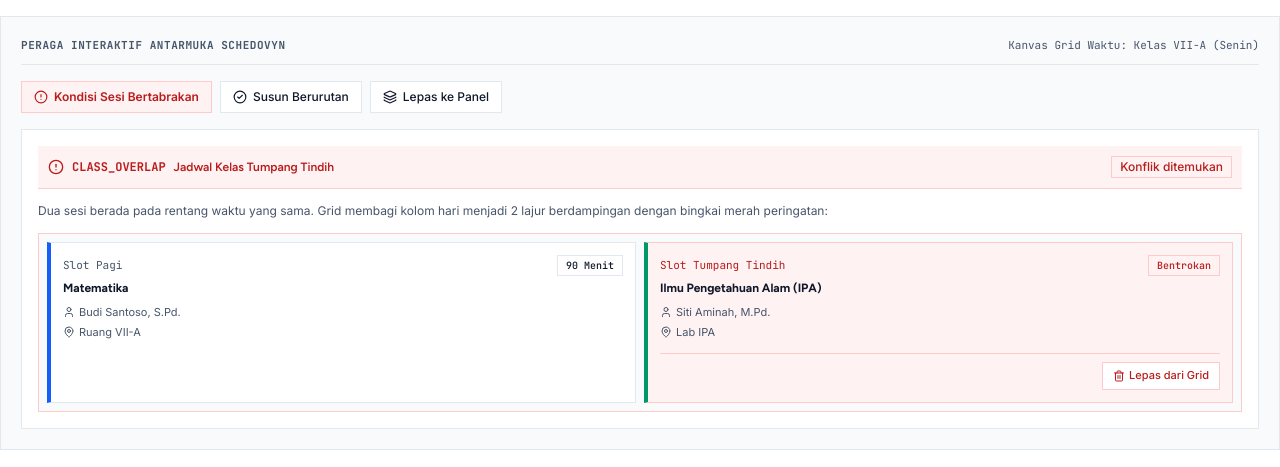
it: TASK-03: Implementasi 5 Komponen Replika UI Interaktif Schedovyn & Integrasi MDX › 4. SessionBlockOverlapReplica (FR-UG-03, AC-UG-05) › memperagakan overlap cluster (CLASS_OVERLAP), simulasi 'Lepas dari Grid', dan penjadwalan berurutan bebas konflik
expect the text "CLASS_OVERLAP" is shown: met, box [72,158,166,174]
expect the text "Konflik ditemukan" is shown: met, box [1111,156,1232,178]
Click the button "Lepas dari Grid" at point(1161, 376), box [1102,362,1220,390]
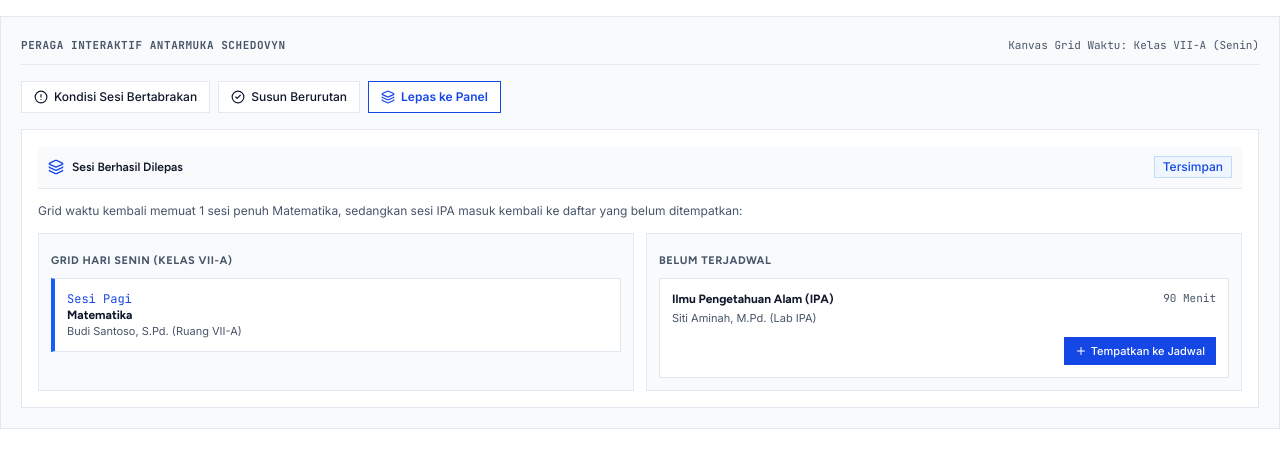
expect the text "Belum Terjadwal" is shown: met, box [659,254,771,266]
expect the button "Tempatkan ke Jadwal" is shown: met, box [1064,337,1216,365]
expect the text "CLASS_OVERLAP" is gone: met
Click the button "Susun Berurutan" at point(289, 96), box [218,80,360,112]
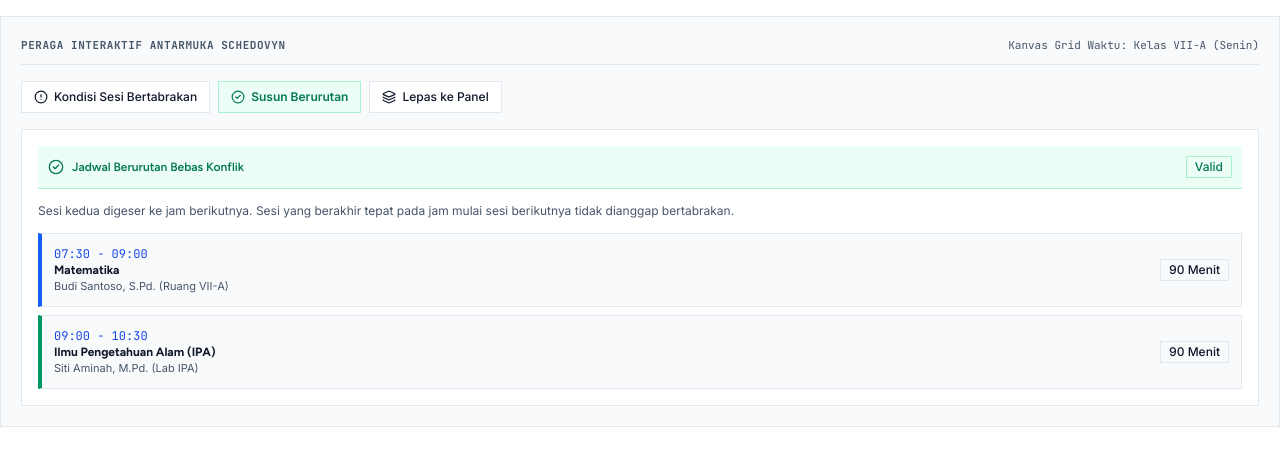
expect the text "CLASS_OVERLAP" is not shown: met
expect the text "07:30 - 09:00" is shown: met, box [54,246,148,262]
expect the text "09:00 - 10:30" is shown: met, box [54,328,148,344]
